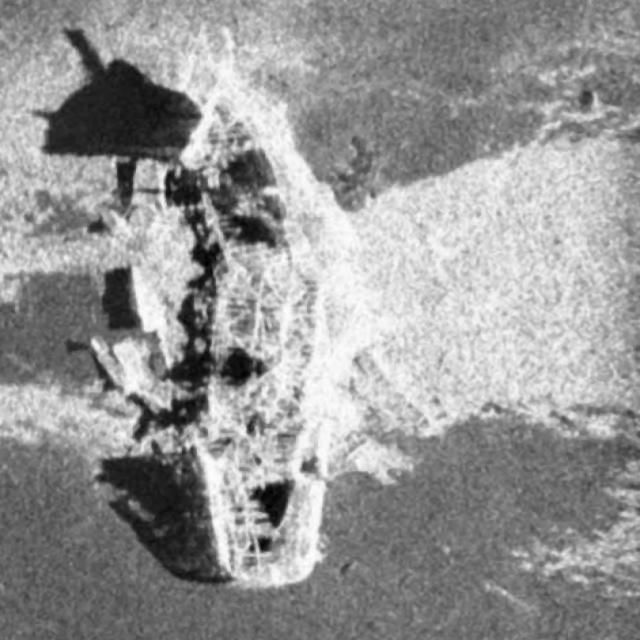Ship: (96, 53, 364, 597)
